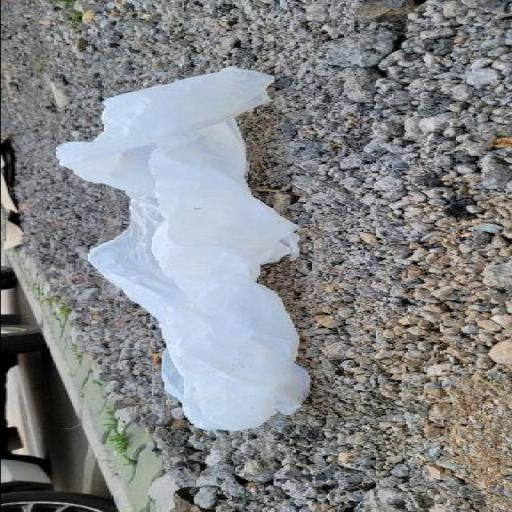plastic-bag: (51, 64, 314, 433)
